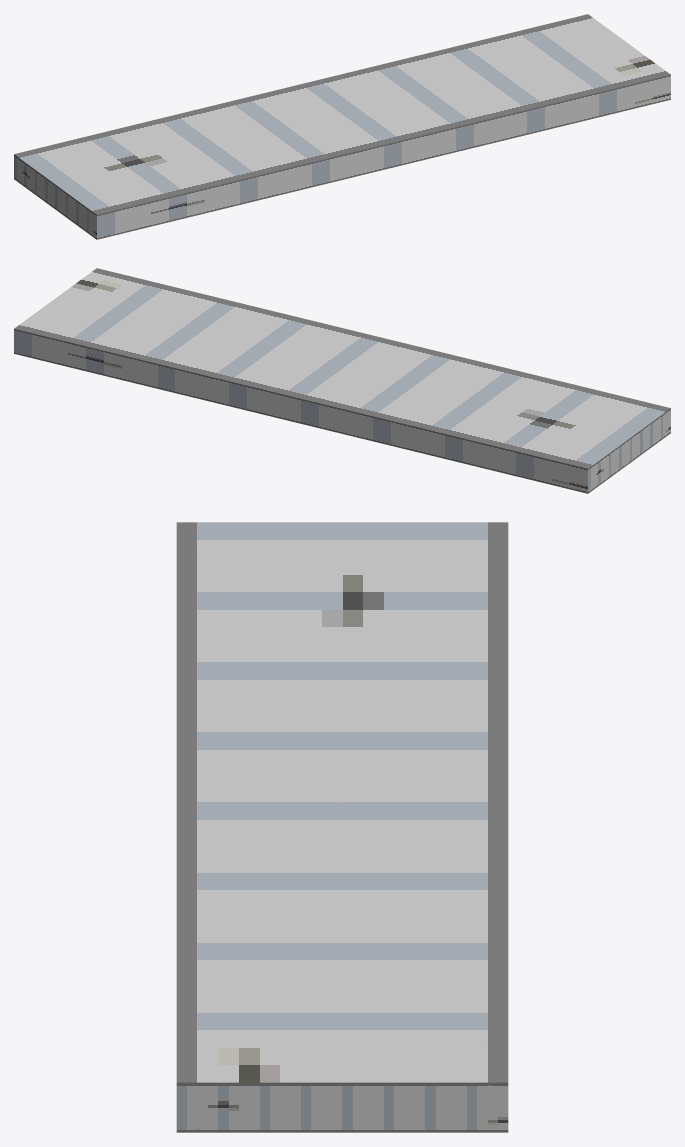
File: CeilingLight_06_Horror.fbx
3 renders of one model, top to bottom at view 1: azimuth 30°, elevation 25°; view 2: azimuth 150°, elevation 25°; view 3: azimuth 270°, elevation 25°, orthographic. The views are drawn at different scales.
Visible parts, largest first — view 1: CeilingLight_06.001; view 2: CeilingLight_06.001; view 3: CeilingLight_06.001.
Part boxes in pixels (left/top/right/bottom): CeilingLight_06.001: left=14, top=14, right=670, bottom=239; CeilingLight_06.001: left=14, top=268, right=670, bottom=493; CeilingLight_06.001: left=176, top=522, right=508, bottom=1132.
Size of the model in its own units: 120 by 5 by 30.
